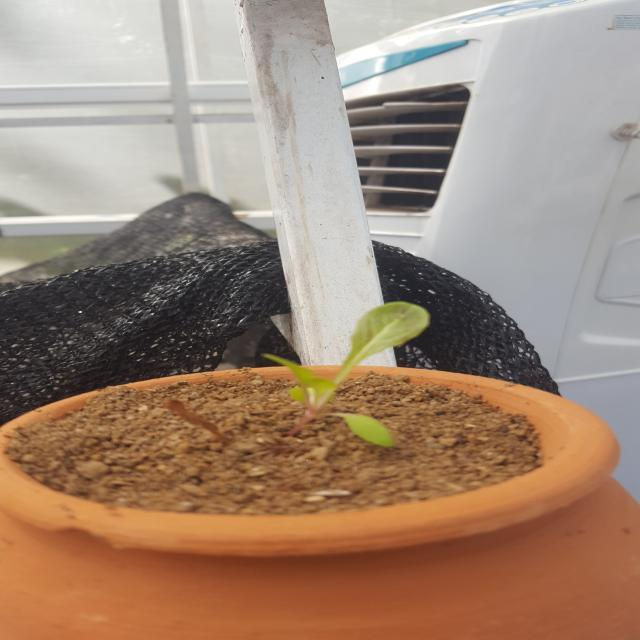Lettuce-Not-Ready-to-Harvest: (260, 301, 431, 448)
